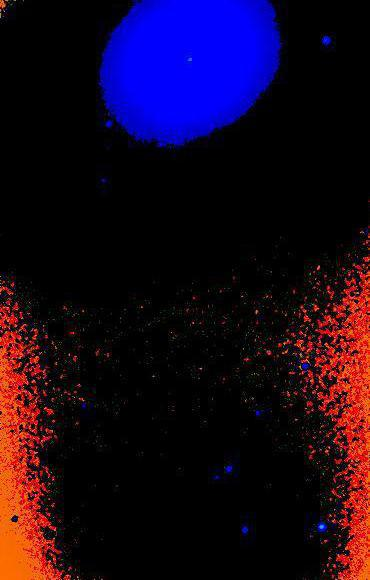star: (215, 0, 245, 26)
